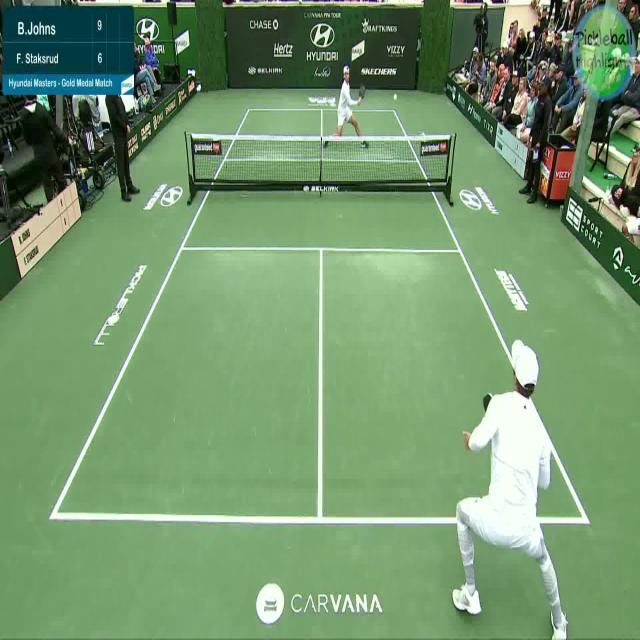Court: (49, 109, 587, 518)
ball: (392, 91, 399, 104)
